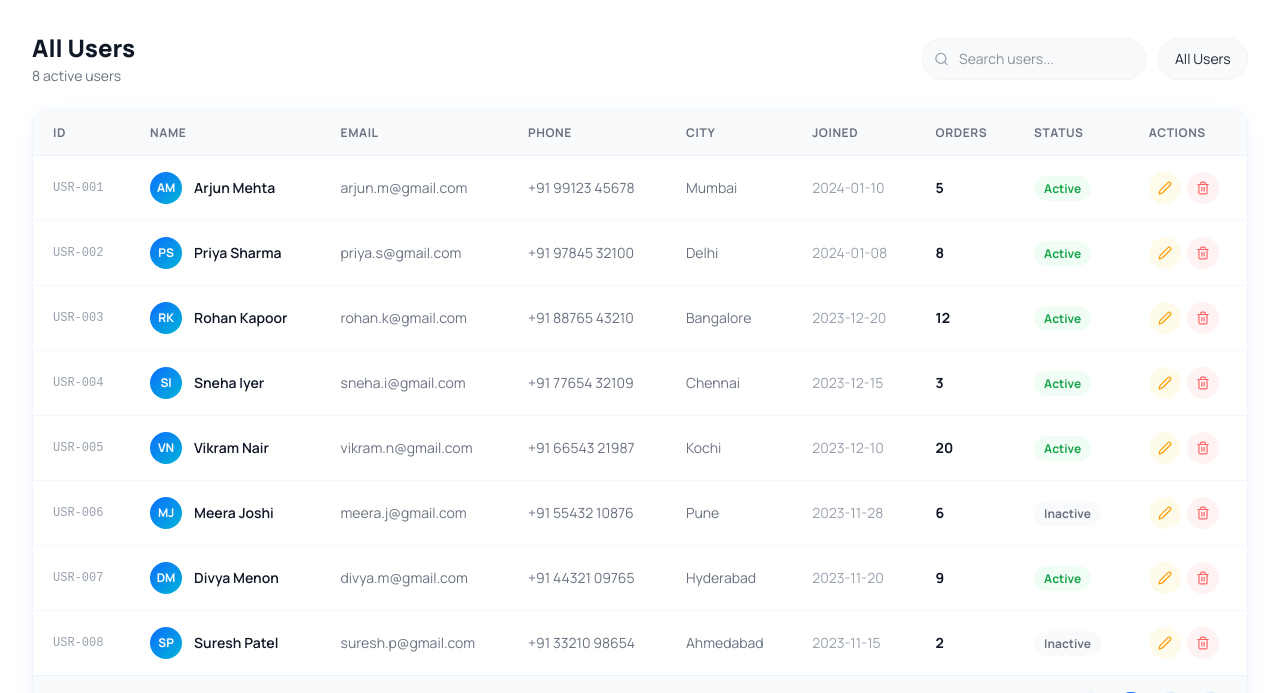
it: UsersView › filters to inactive users
Expected: the link "arjun.m@gmail.com" is shown, top-left (340, 178), bottom-right (467, 197)
Select "Inactive" in the dropdown named "Filter by status" at (1203, 59), box top-left (1158, 38), bottom-right (1248, 80)
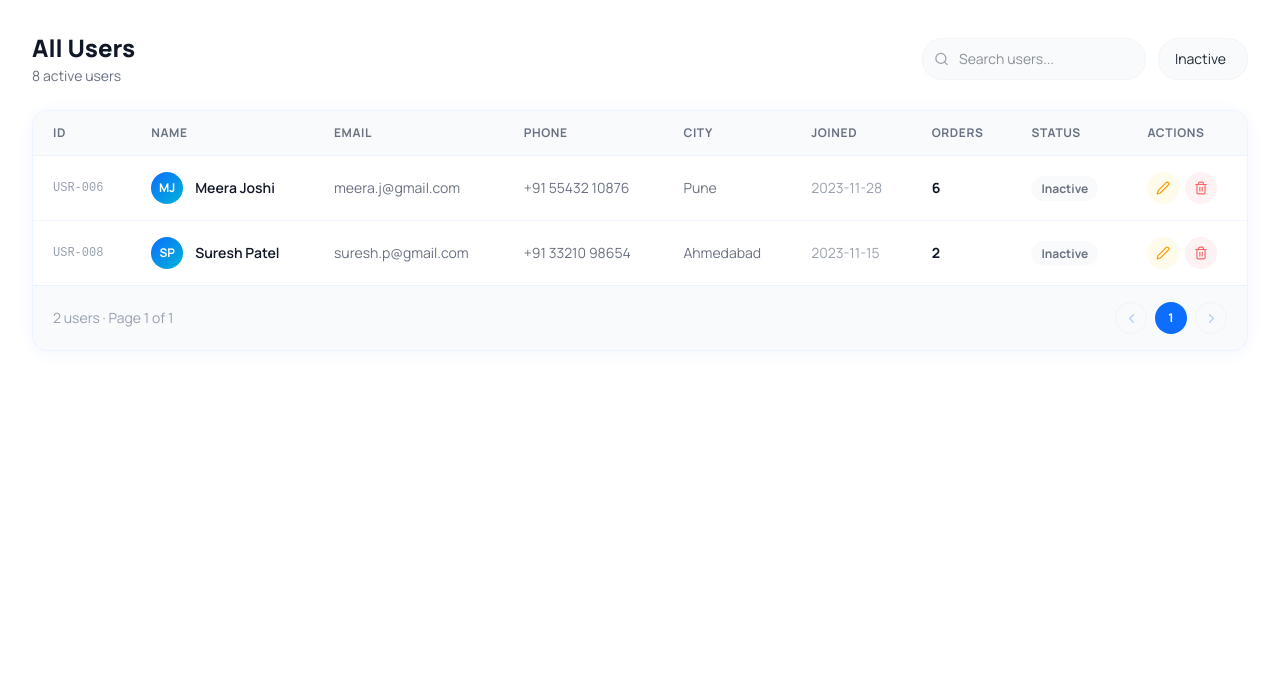
Expected: the link "meera.j@gmail.com" is shown, top-left (334, 178), bottom-right (460, 197)
Expected: the link "arjun.m@gmail.com" is gone
